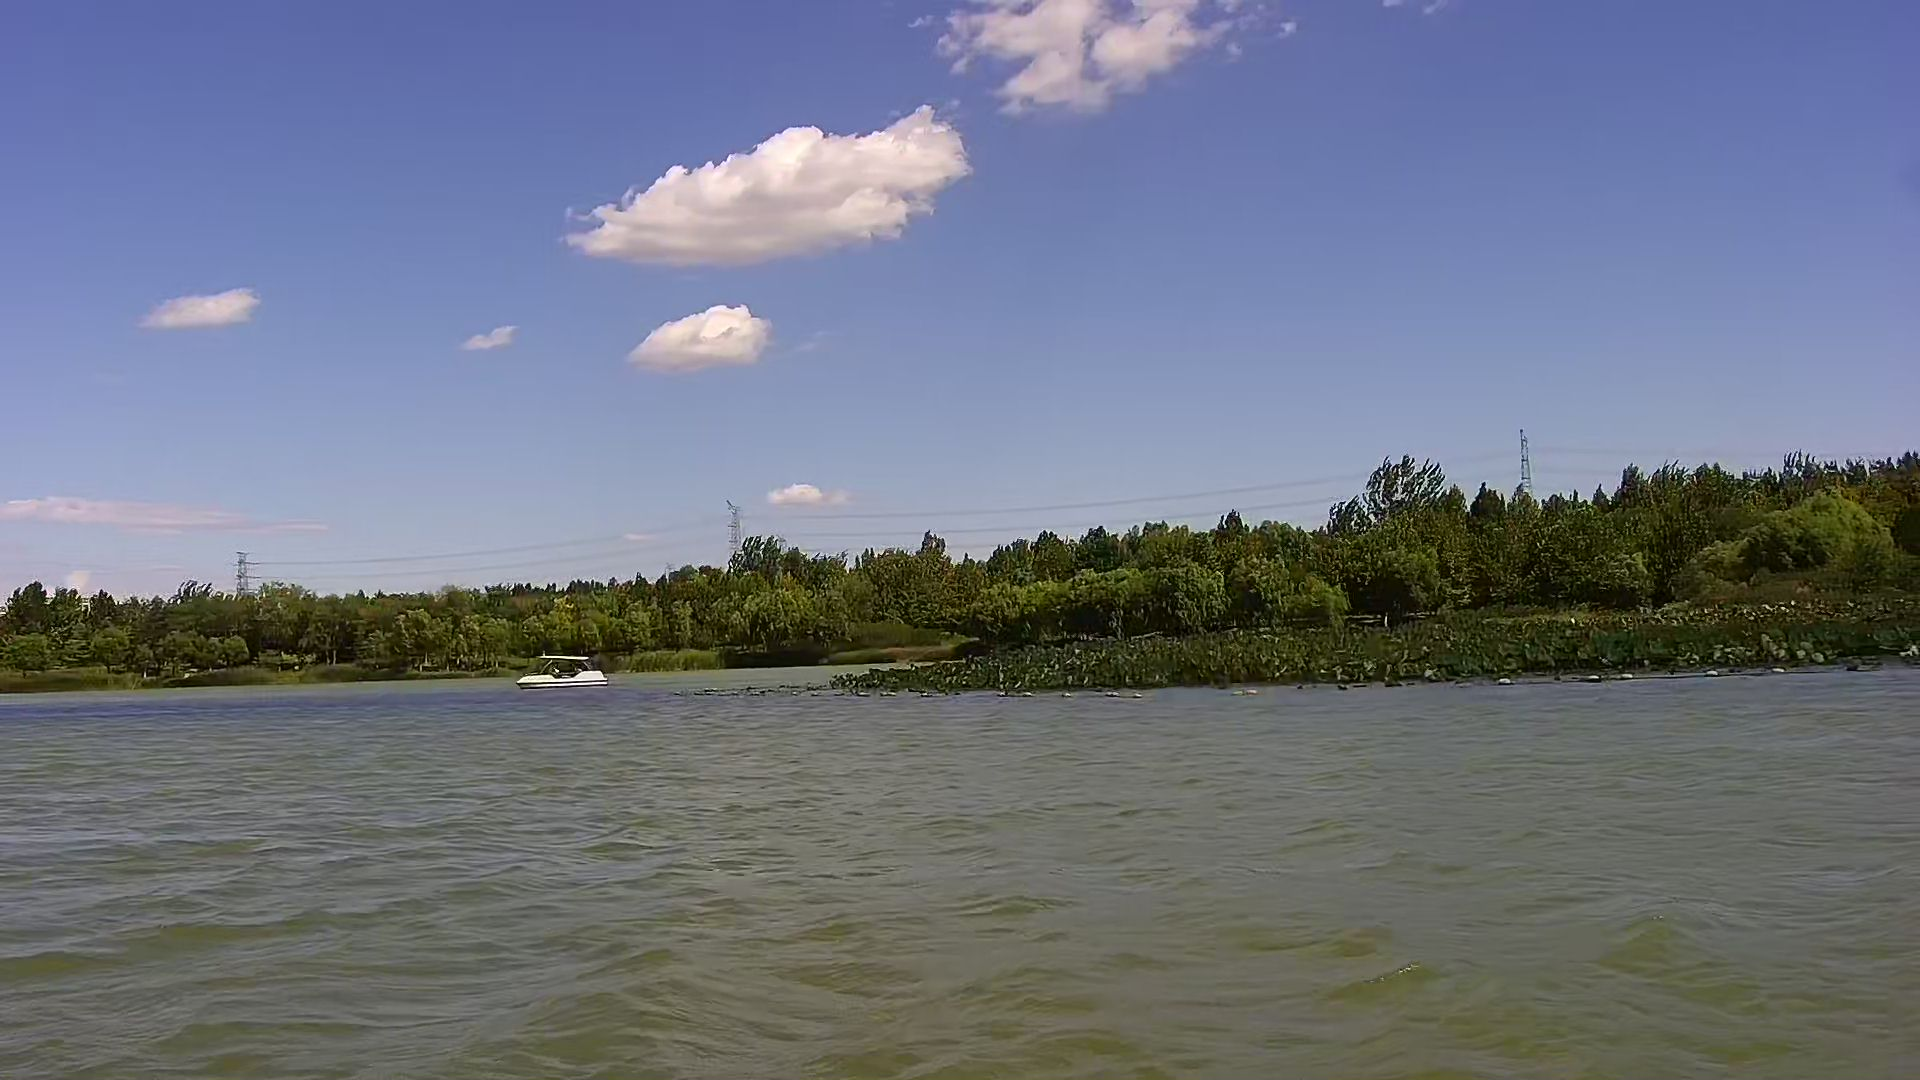boat: (512, 651, 611, 692)
